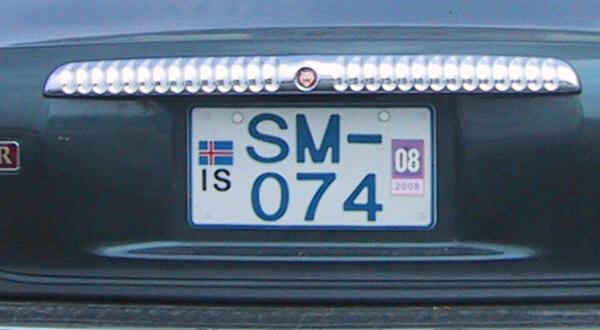license_plate: (186, 103, 436, 231)
